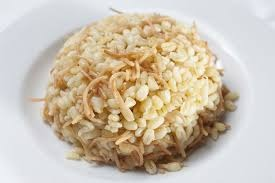pirinc_pilavi: (41, 12, 237, 173)
